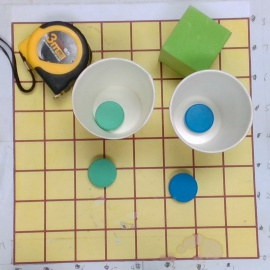blue: (168, 173, 198, 203)
cup_blue: (167, 70, 254, 156)
cup_green: (71, 56, 155, 141)
green: (87, 158, 117, 188)
